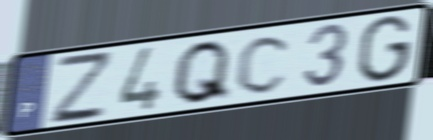3: (298, 20, 351, 93)
4: (116, 43, 165, 114)
C: (233, 32, 295, 97)
G: (354, 13, 416, 85)
Q: (168, 37, 234, 107)
Z: (48, 50, 113, 127)
